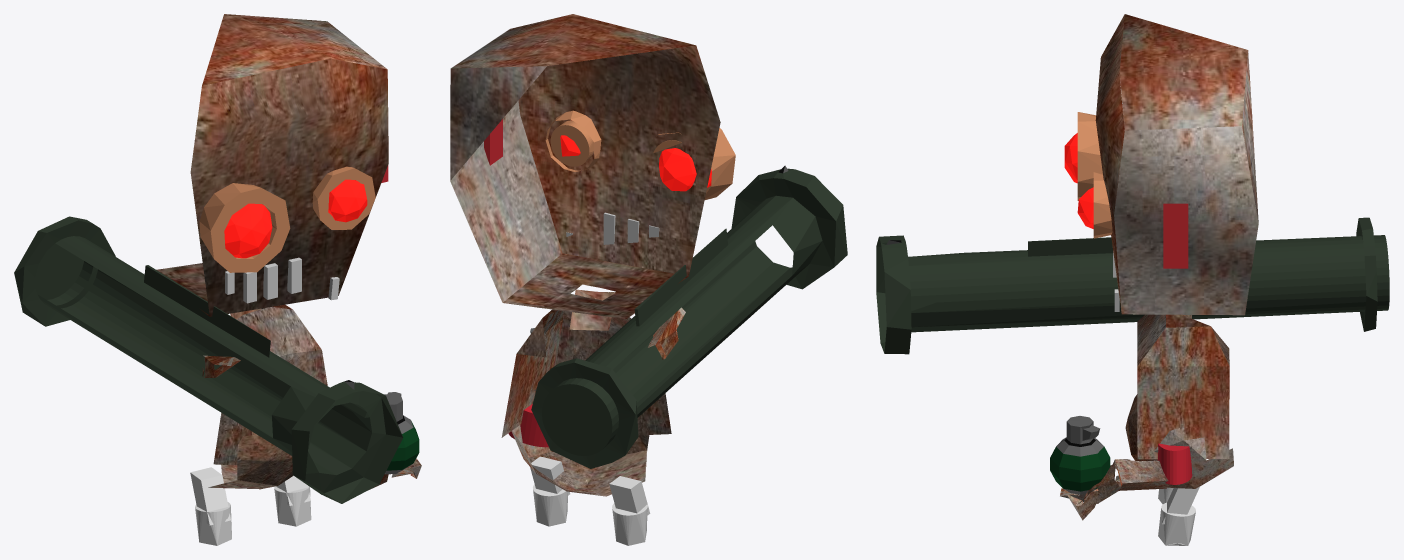
File: RobotVida2.fbx
3 views of the same model, side by side, from view 1: azimuth 30°, elevation 25°; view 2: azimuth 150°, elevation 25°; view 3: azimuth 270°, elevation 25° (orthographic). The views are drawn at different scales.
Parts seen in each view (by area): view 1: kaf, BAZOOKA, Cube.001, Cylinder.006, Sphere, Sphere.001, Cylinder.007, Cube.003, GRANADA, Sphere.002, Cylinder, Cylinder.001 (+3 smaller); view 2: kaf, BAZOOKA, Cube.001, Sphere, Cylinder.007, Cube.003, Cylinder.006, Sphere.001, Cylinder.001, Cylinder, Cube.002, Cylinder.003 (+1 smaller); view 3: kaf, BAZOOKA, Cube.001, GRANADA, Cube.002, Sphere, kadis.006, Cylinder.006, Cylinder.003, Cylinder, Cylinder.007, Cube.003.
Part boxes in pixels (bbox=[...]): kaf: bbox=[156, 14, 388, 319]; BAZOOKA: bbox=[14, 216, 403, 503]; Cube.001: bbox=[213, 304, 327, 465]; Cylinder.006: bbox=[199, 183, 290, 272]; Sphere: bbox=[208, 431, 293, 489]; Sphere.001: bbox=[224, 203, 272, 258]; Cylinder.007: bbox=[312, 166, 375, 229]; Cube.003: bbox=[190, 467, 310, 525]; GRANADA: bbox=[384, 392, 419, 474]; Sphere.002: bbox=[328, 179, 367, 222]; Cylinder: bbox=[274, 486, 311, 526]; Cylinder.001: bbox=[195, 502, 231, 545]; kaf: bbox=[450, 14, 720, 330]; BAZOOKA: bbox=[531, 165, 847, 468]; Cube.001: bbox=[501, 309, 671, 437]; Sphere: bbox=[511, 390, 649, 496]; Cylinder.007: bbox=[545, 110, 601, 171]; Cube.003: bbox=[530, 456, 650, 515]; Cylinder.006: bbox=[652, 128, 735, 199]; Sphere.001: bbox=[659, 148, 711, 191]; Cylinder.001: bbox=[612, 503, 647, 545]; Cylinder: bbox=[533, 484, 568, 526]; Cube.002: bbox=[648, 307, 685, 359]; Cylinder.003: bbox=[508, 404, 548, 447]; kaf: bbox=[1095, 14, 1258, 318]; BAZOOKA: bbox=[876, 217, 1389, 354]; Cube.001: bbox=[1137, 314, 1229, 459]; GRANADA: bbox=[1050, 416, 1110, 494]; Cube.002: bbox=[1060, 459, 1169, 520]; Sphere: bbox=[1125, 394, 1233, 488]; kadis.006: bbox=[1163, 203, 1188, 268]; Cylinder.006: bbox=[1077, 112, 1102, 200]; Cylinder.003: bbox=[1157, 443, 1192, 484]; Cylinder: bbox=[1158, 502, 1195, 545]; Cylinder.007: bbox=[1093, 172, 1112, 238]; Cube.003: bbox=[1162, 486, 1199, 524].
Bounding box in the file's own units: 202 × 350 × 342.
